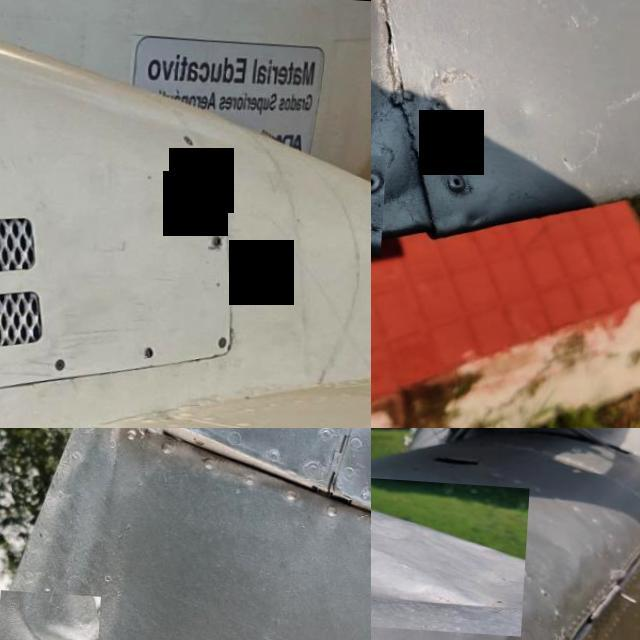Crack: (371, 147, 389, 252)
Dent: (371, 454, 533, 629), (0, 588, 104, 640)
Missing_Fastener: (210, 228, 230, 245), (142, 340, 162, 352)
